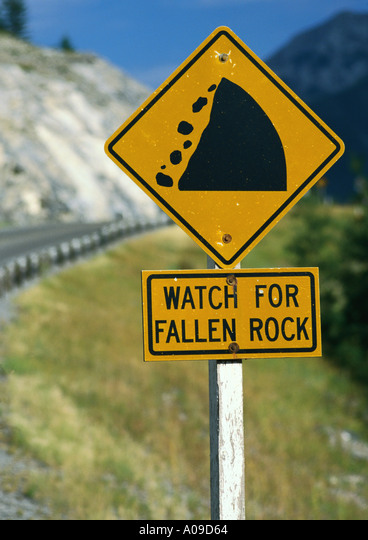FallenSign: (94, 25, 348, 270)
